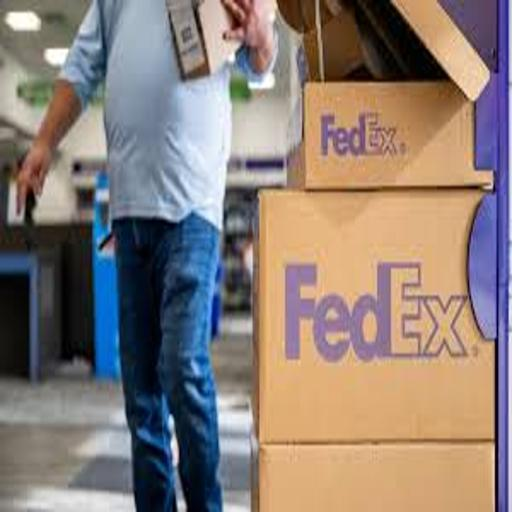FedEx: (257, 189, 500, 439), (288, 85, 500, 191)
